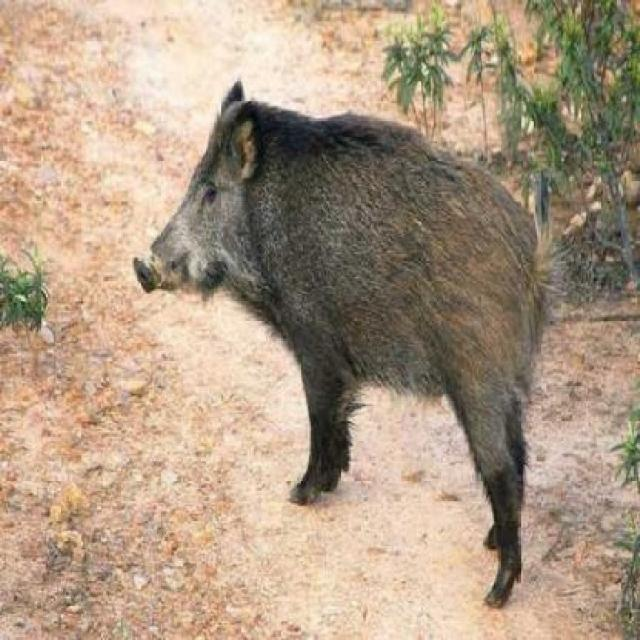pig: (119, 59, 578, 618)
